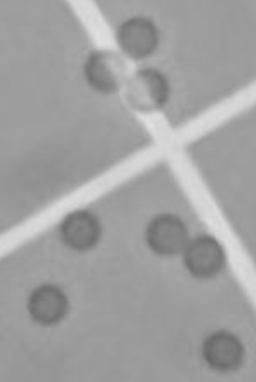cell: (117, 61, 172, 116), (110, 12, 165, 65), (198, 320, 250, 376), (77, 42, 129, 94), (22, 278, 74, 328), (55, 204, 105, 254), (141, 208, 191, 257), (181, 230, 228, 282)
